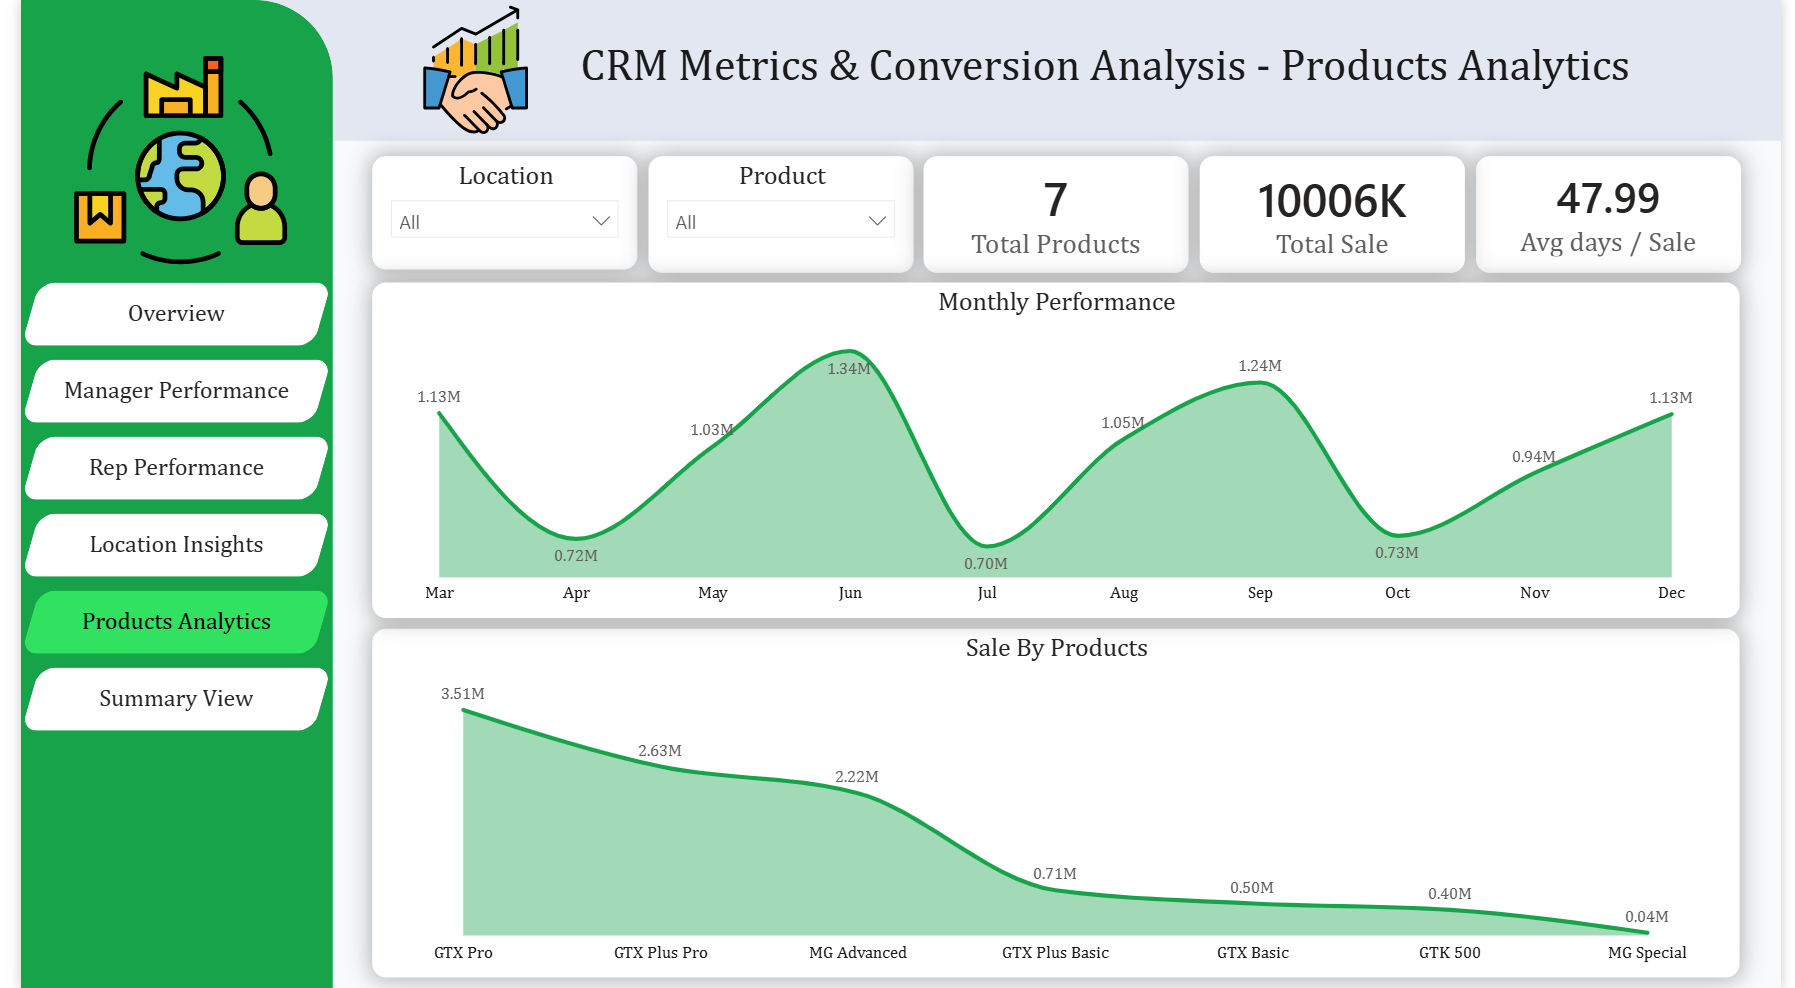

What the dashboard file says about the page in this screenshot:
{"tool":"powerbi","page":{"name":"Products Analytics","canvas":[1280,720],"ordinal":4},"visuals":[{"type":"shape","box":[0,0,1280,102.5],"z":0},{"type":"shape","box":[0,0,226.8,720.2],"z":1000},{"type":"textbox","box":[401.7,26.5,778.2,63.9],"z":2000},{"type":"image","box":[238.9,3.6,183.4,94.1],"z":3000},{"type":"pageNavigator","box":[0,205.1,226.8,331.8],"z":4000},{"type":"slicer","title":"Location","fields":{"Values":["sales_teams.regional_office"]},"box":[255.6,113.4,193,82],"z":5000},{"type":"slicer","title":"Product","fields":{"Values":["products.product"]},"box":[456.1,113.4,193,85],"z":6000},{"type":"cardVisual","fields":{"Data":["Measures Table.Avg days taken in Deal"]},"box":[1057.8,113.4,193,84.5],"z":7000},{"type":"cardVisual","fields":{"Data":["CountNonNull(products.product)"]},"box":[656.3,113.4,193,84.5],"z":8000},{"type":"cardVisual","fields":{"Data":["Sum(sales_pipeline.close_value)"]},"box":[857.3,113.4,193,85],"z":9000},{"type":"areaChart","title":"Sale By Products","fields":{"Category":["sales_pipeline.product"],"Y":["Measures Table.Total Value"]},"box":[255.8,457.2,994.1,253.4],"z":10000},{"type":"areaChart","title":"Monthly Performance","fields":{"Category":["Calender.Month","products.product"],"Y":["Measures Table.Total Value"]},"box":[255.8,205.1,994.1,243.7],"z":11000},{"type":"image","box":[27.7,38.6,176.1,156.8],"z":12000}]}

Visuals, with their boxes in screenshot pixels (x1, y1, x2, y2), scaled from the page's 1280x720 canvas onto the 1795x988 screenshot:
shape: left=0, top=0, right=1794, bottom=141
shape: left=0, top=0, right=318, bottom=987
textbox: left=563, top=36, right=1655, bottom=124
image: left=335, top=5, right=592, bottom=134
pageNavigator: left=0, top=281, right=318, bottom=737
"Location" slicer: left=358, top=156, right=629, bottom=268
"Product" slicer: left=640, top=156, right=910, bottom=272
cardVisual - Measures Table.Avg days taken in Deal: left=1483, top=156, right=1754, bottom=272
cardVisual - CountNonNull(products.product): left=920, top=156, right=1191, bottom=272
cardVisual - Sum(sales_pipeline.close_value): left=1202, top=156, right=1473, bottom=272
"Sale By Products" areaChart: left=359, top=627, right=1753, bottom=975
"Monthly Performance" areaChart: left=359, top=281, right=1753, bottom=616
image: left=39, top=53, right=286, bottom=268
